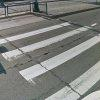Crosswalk: (7, 23, 97, 92)
